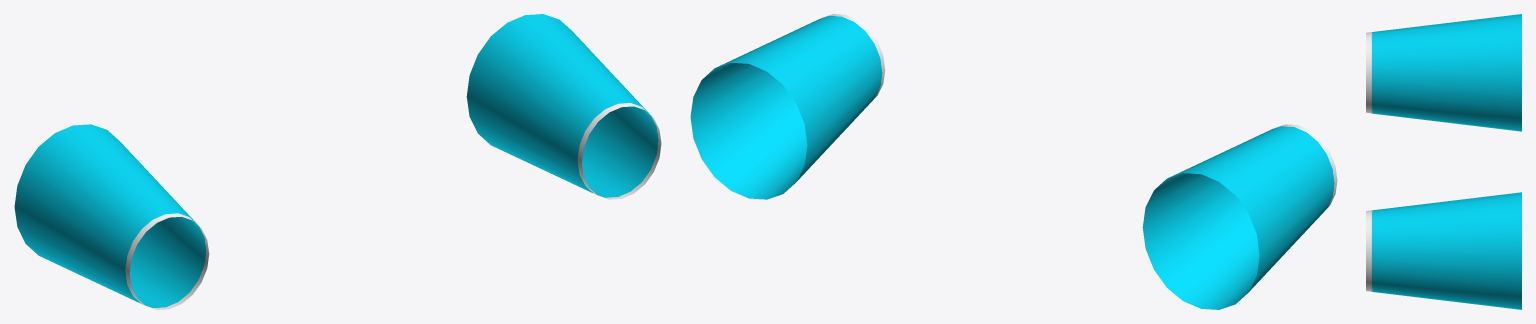
Rendered from PlayerShip_Thrusters_02.FBX.
The picture shows the model from 3 angles, left to right: view 1: azimuth 30°, elevation 25°; view 2: azimuth 150°, elevation 25°; view 3: azimuth 270°, elevation 25°; orthographic projection. The views are drawn at different scales.
Visible parts, largest first — view 1: Thrusters_02; view 2: Thrusters_02; view 3: Thrusters_02.
Part boxes in pixels (x1,y1,x2,y2): Thrusters_02: (14, 14, 661, 309); Thrusters_02: (690, 14, 1337, 309); Thrusters_02: (1366, 14, 1521, 309).
Bounding box in the file's own units: 2557 × 751 × 578.
1 material, 1 textured.
